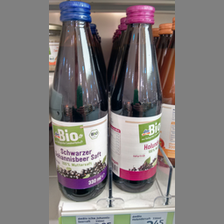juice: (51, 2, 110, 200), (110, 4, 164, 193)
